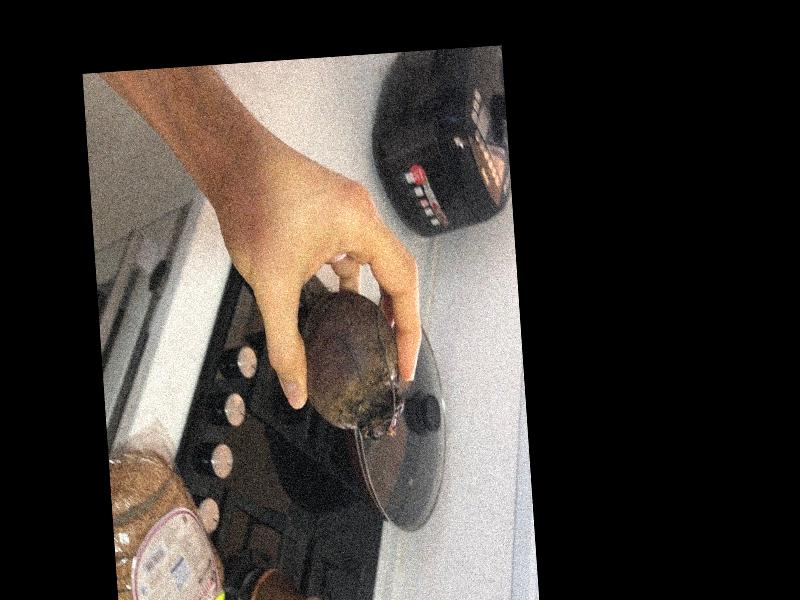Beet: (299, 278, 404, 444)
